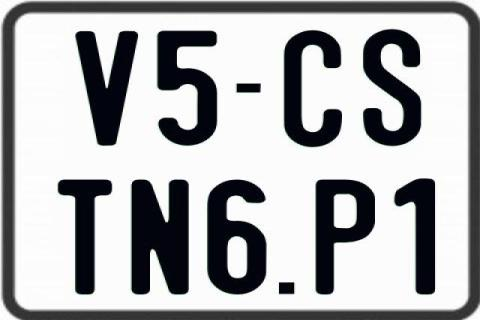0: (206, 180, 271, 297), (158, 29, 218, 150), (393, 179, 434, 295)
C: (284, 31, 342, 147)
N: (129, 178, 189, 296)
P: (314, 179, 379, 299)
S: (360, 27, 422, 148)
T: (59, 178, 118, 296)
V: (74, 29, 139, 145)
